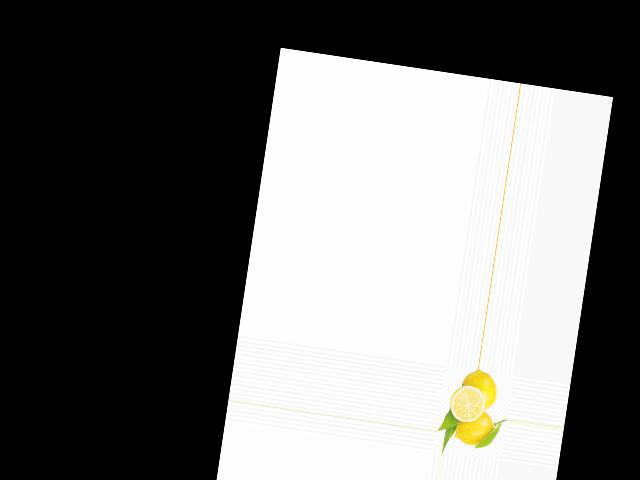lemon: (455, 366, 499, 409)
